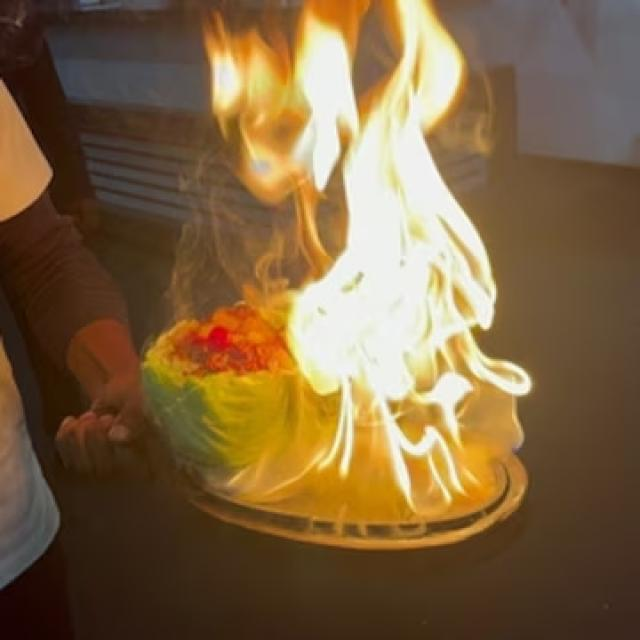fire: (284, 0, 530, 512), (200, 1, 360, 202)
